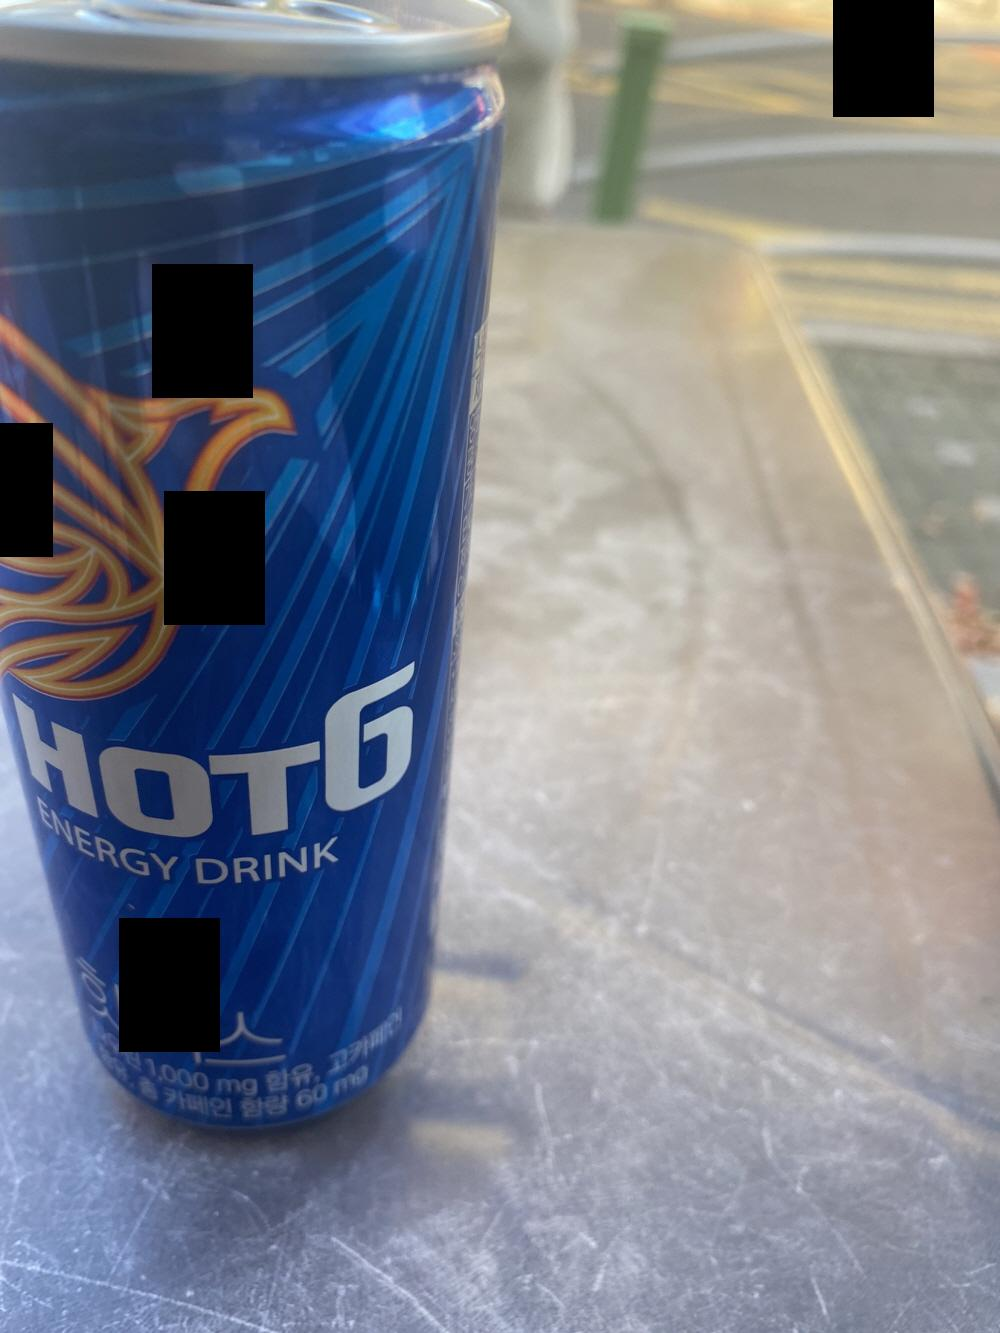hotsix_org: (0, 0, 507, 1160)
